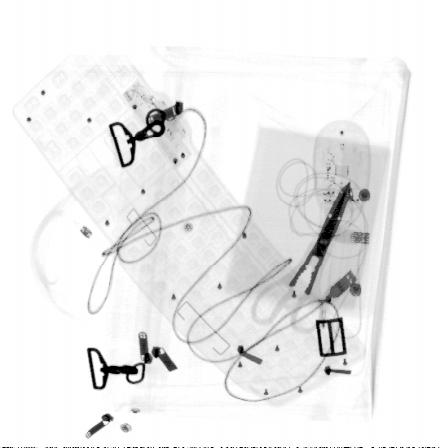Scissors: (251, 179, 351, 336)
